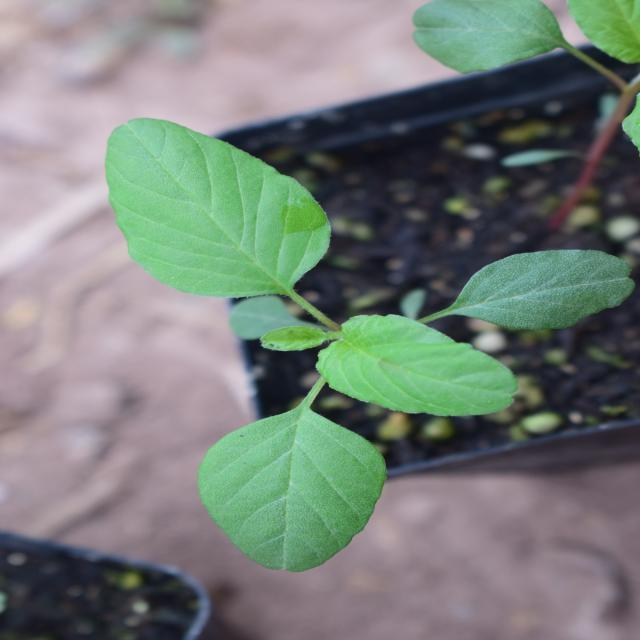pigweed: (70, 132, 534, 498)
